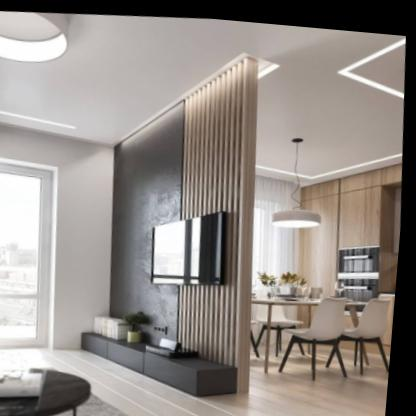Wall Panel: (114, 49, 260, 389)
Wooden floor: (8, 347, 394, 416)
